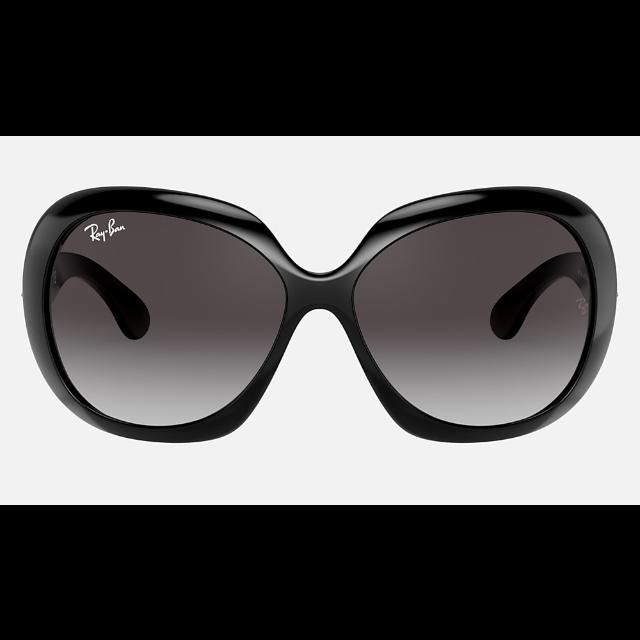Sunglasses: (24, 184, 618, 442)
